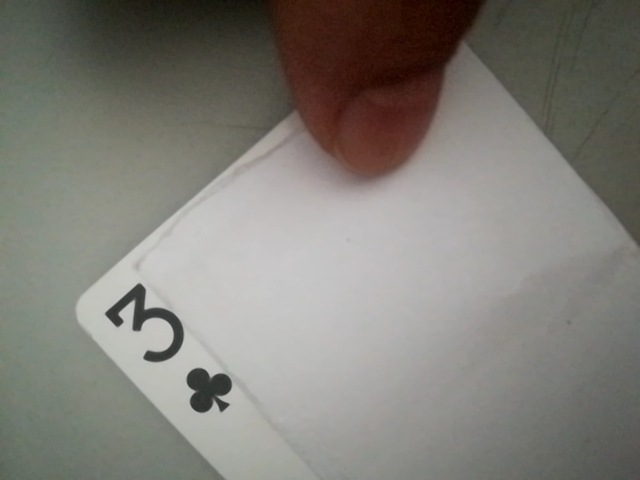mh 3: (87, 283, 244, 424)
